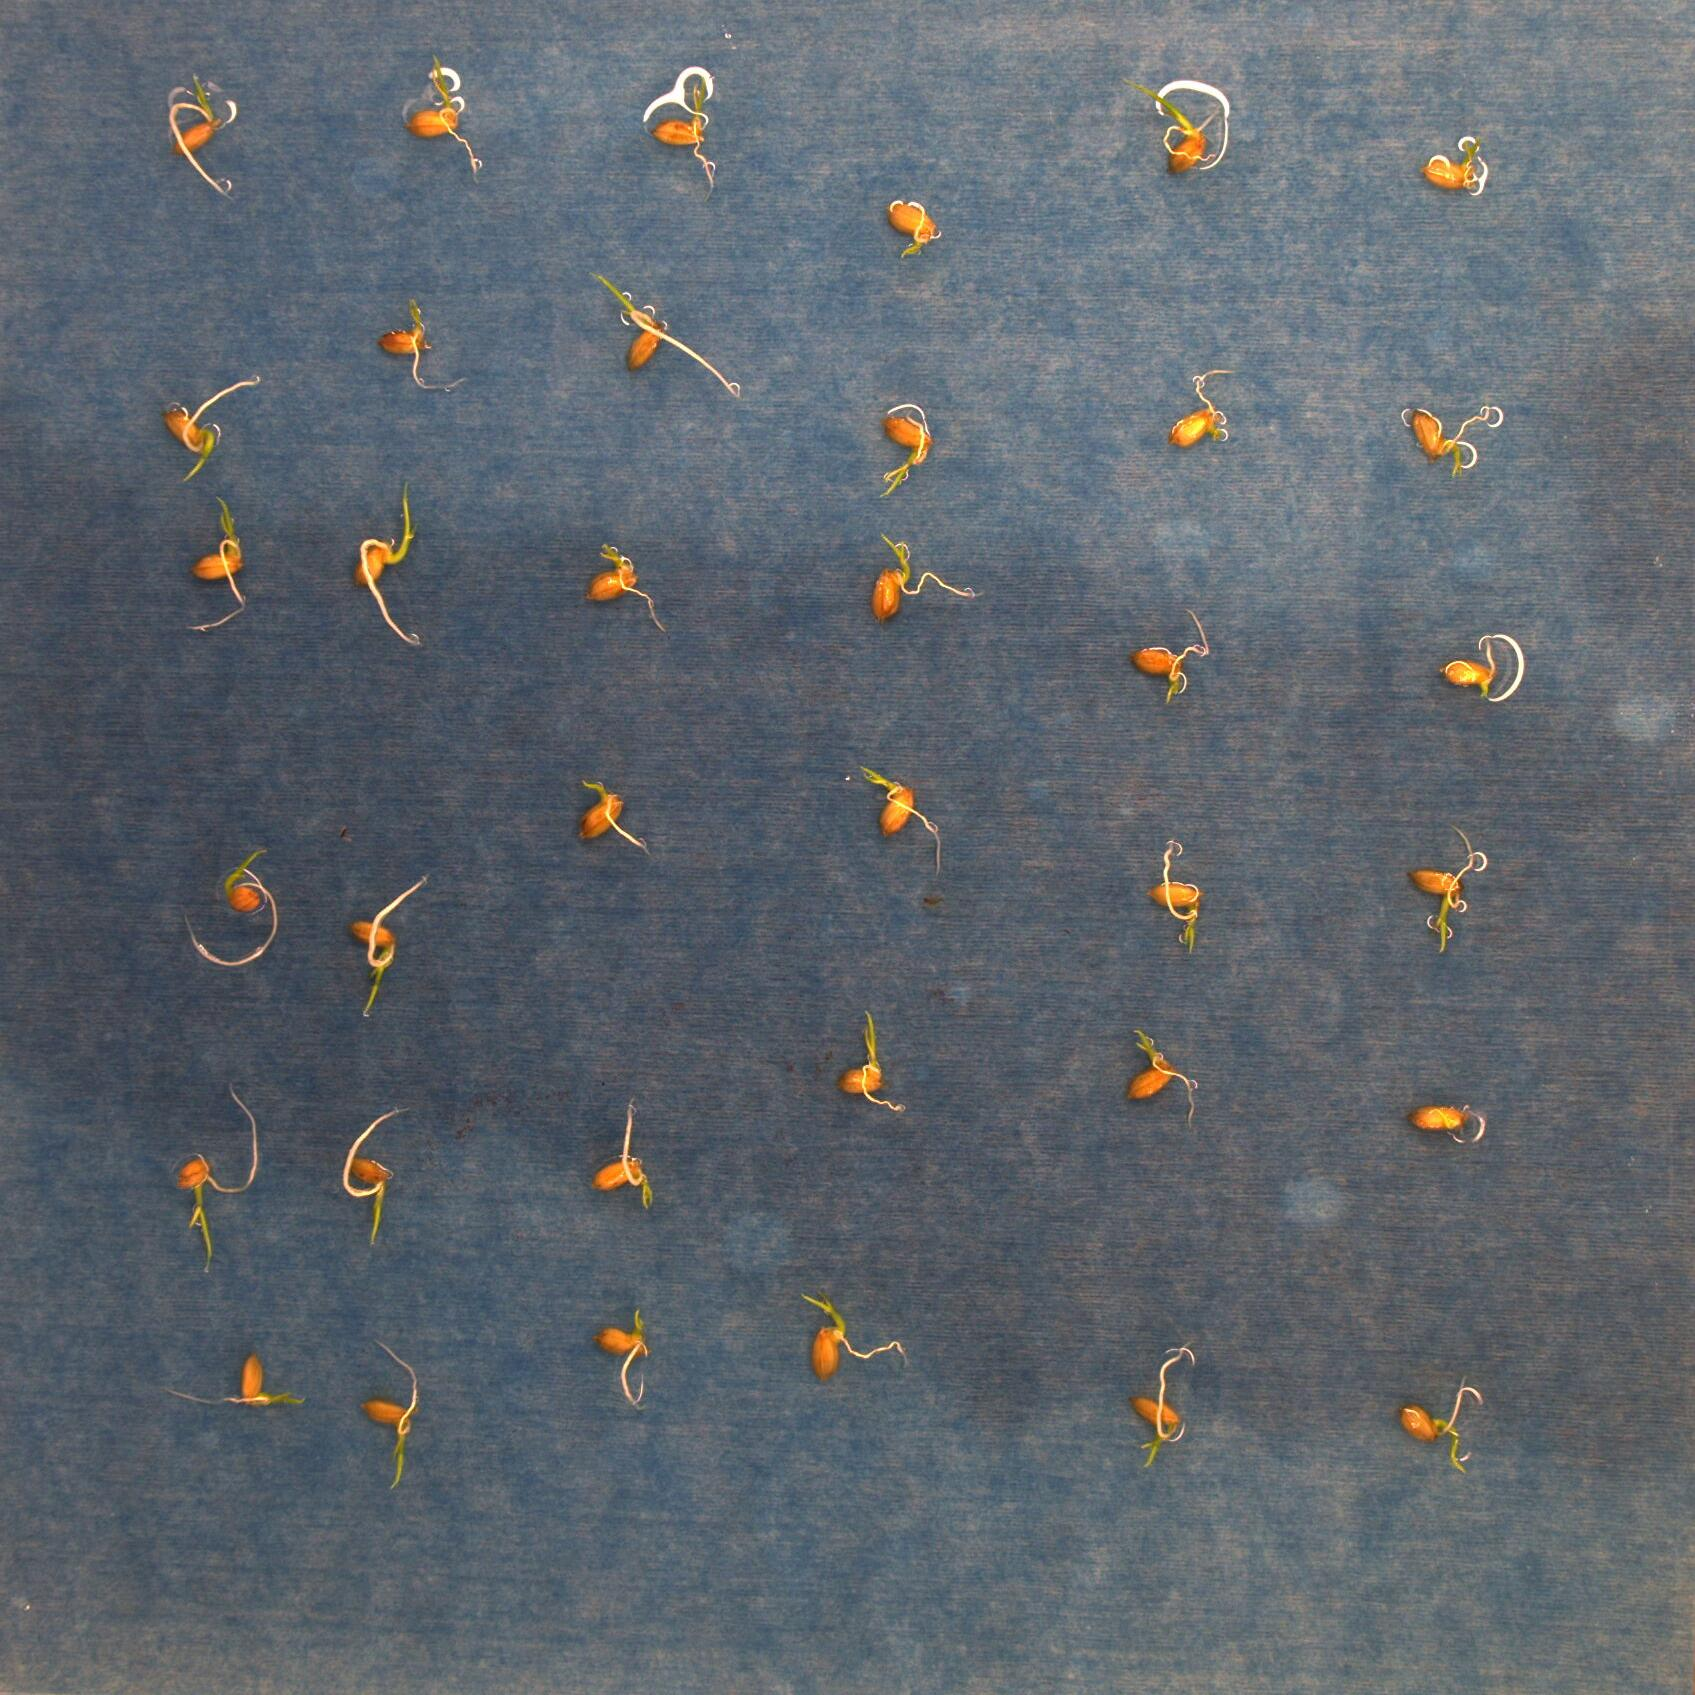not sprout: (1402, 396, 1495, 483), (875, 189, 944, 251), (1436, 643, 1509, 692), (1412, 143, 1475, 192), (227, 858, 276, 910), (1416, 1088, 1468, 1136)
sprout: (591, 270, 747, 407), (175, 1080, 269, 1281), (335, 487, 439, 649), (386, 54, 498, 189), (1118, 1340, 1217, 1487), (337, 879, 439, 1014), (155, 54, 247, 205), (787, 1287, 913, 1392), (861, 529, 986, 632), (160, 1343, 317, 1423), (175, 494, 262, 633), (1114, 1012, 1220, 1127), (357, 1338, 435, 1489), (140, 359, 245, 469), (1385, 1371, 1492, 1478), (369, 279, 464, 400), (1149, 70, 1257, 172), (865, 754, 967, 863), (834, 997, 922, 1122), (341, 1107, 418, 1250), (1153, 351, 1250, 463), (640, 78, 726, 200), (1124, 601, 1218, 712), (1142, 838, 1222, 970), (1402, 827, 1485, 948), (574, 529, 666, 627), (581, 1090, 658, 1200), (574, 771, 661, 868), (593, 1309, 669, 1416), (868, 397, 942, 503)
